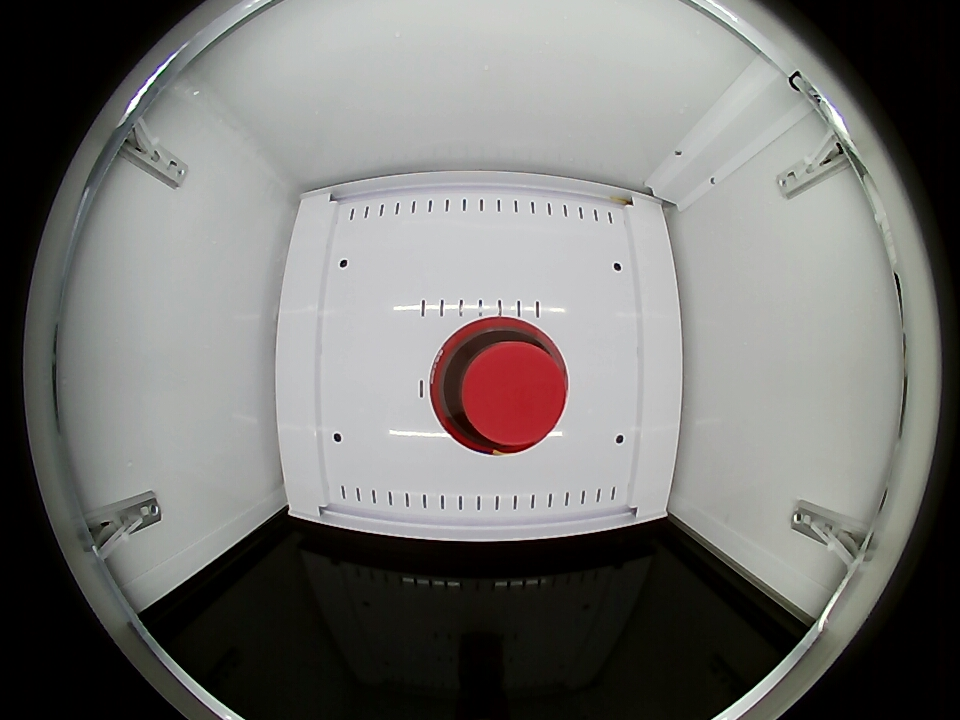binghongcha: (430, 316, 569, 457)
